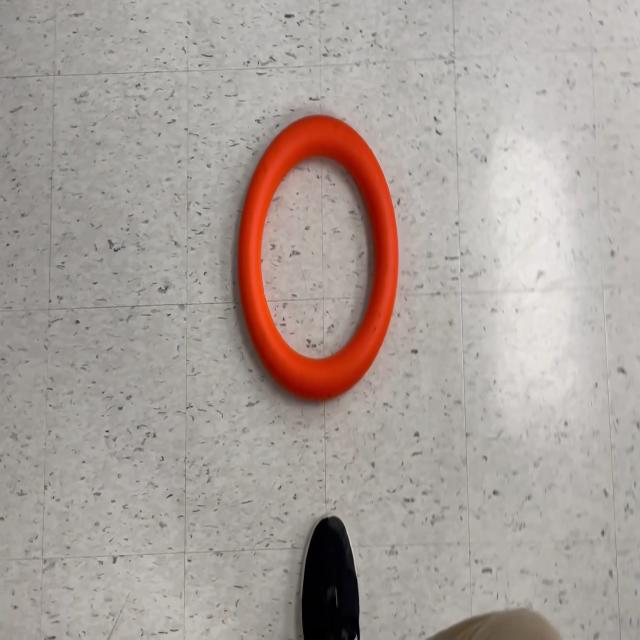note: (236, 114, 399, 406)
